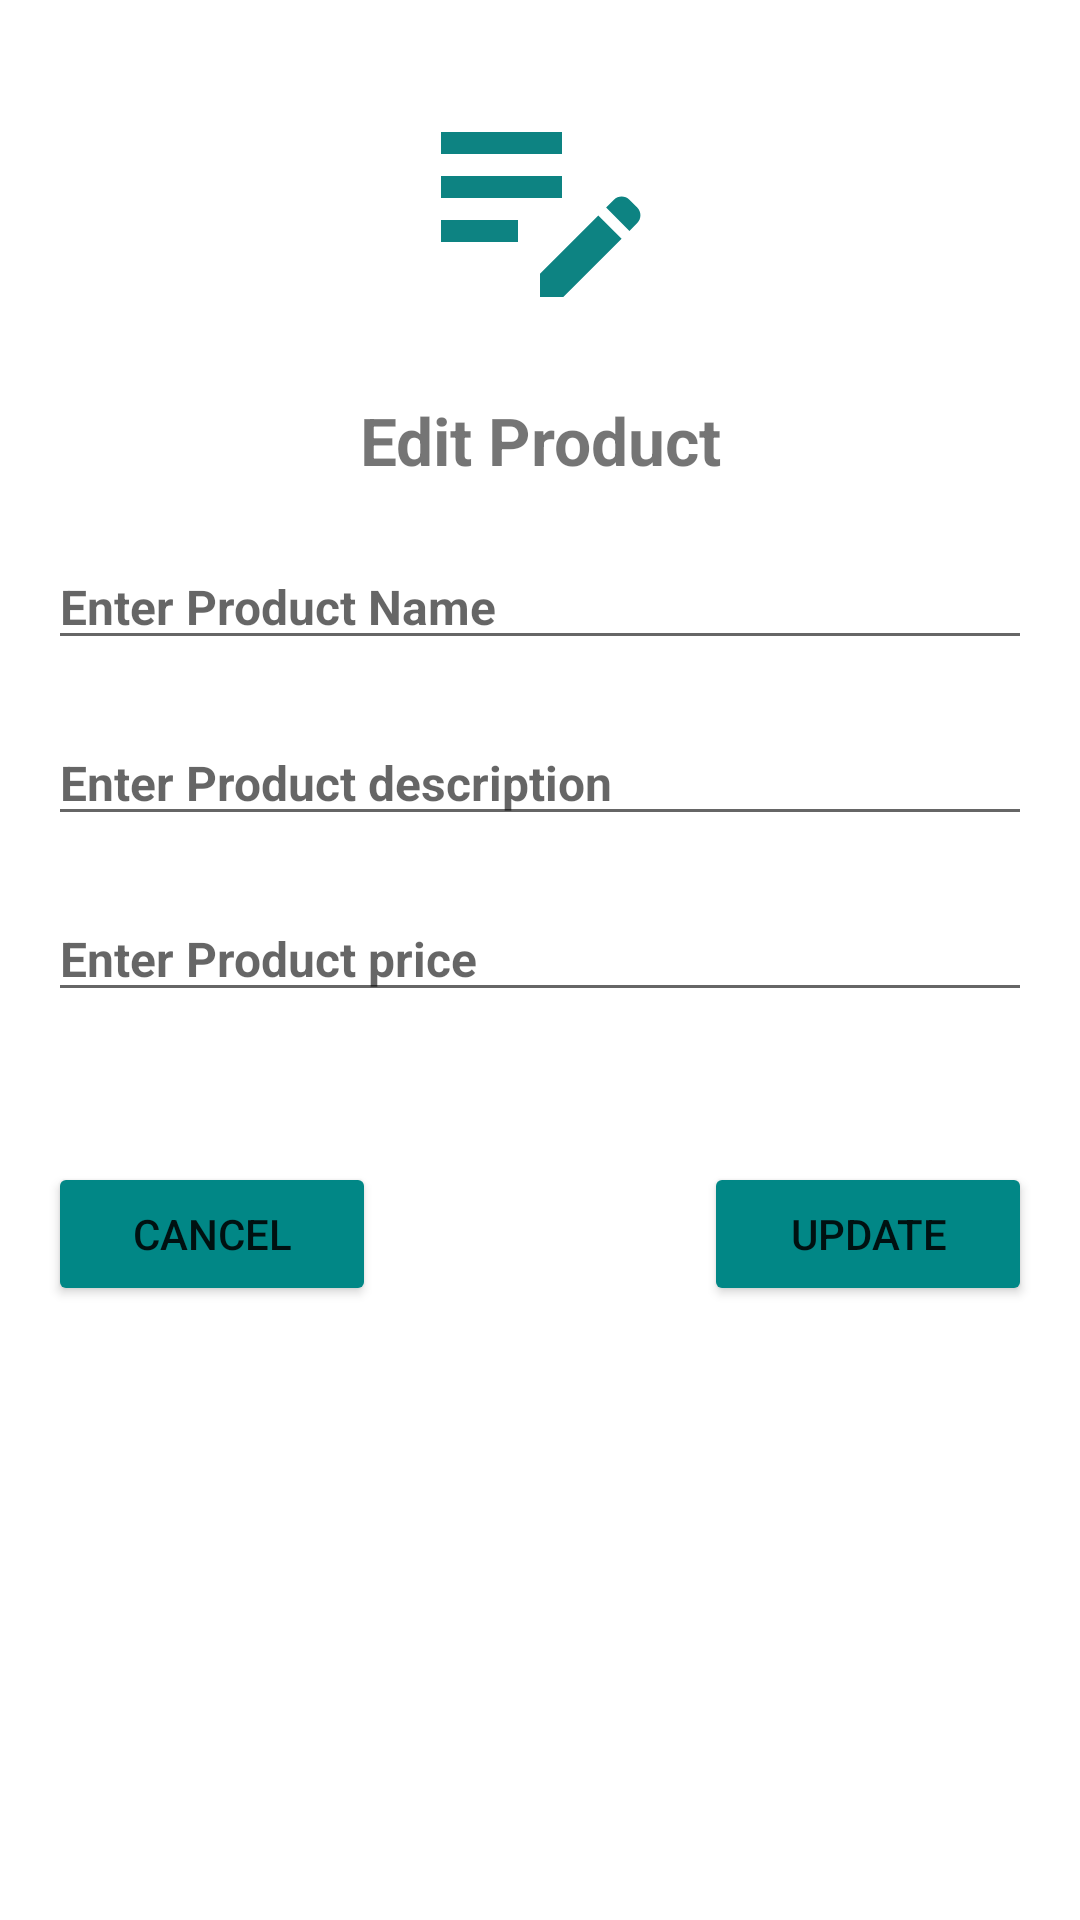

Icon click points for this 1080w x 1920h phone screenshot, format (x,y):
edit note: (541,214)
